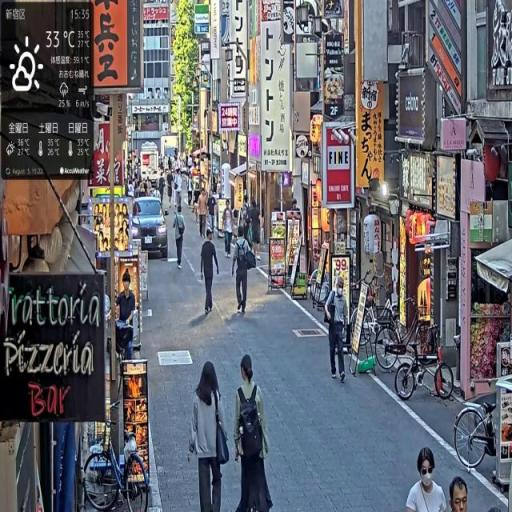person: (233, 352, 275, 512), (190, 359, 231, 512), (407, 446, 450, 512), (325, 278, 351, 383), (232, 226, 261, 318), (200, 229, 220, 317), (174, 205, 187, 270), (448, 476, 469, 512), (222, 201, 234, 260), (199, 188, 210, 239), (208, 189, 219, 238)
